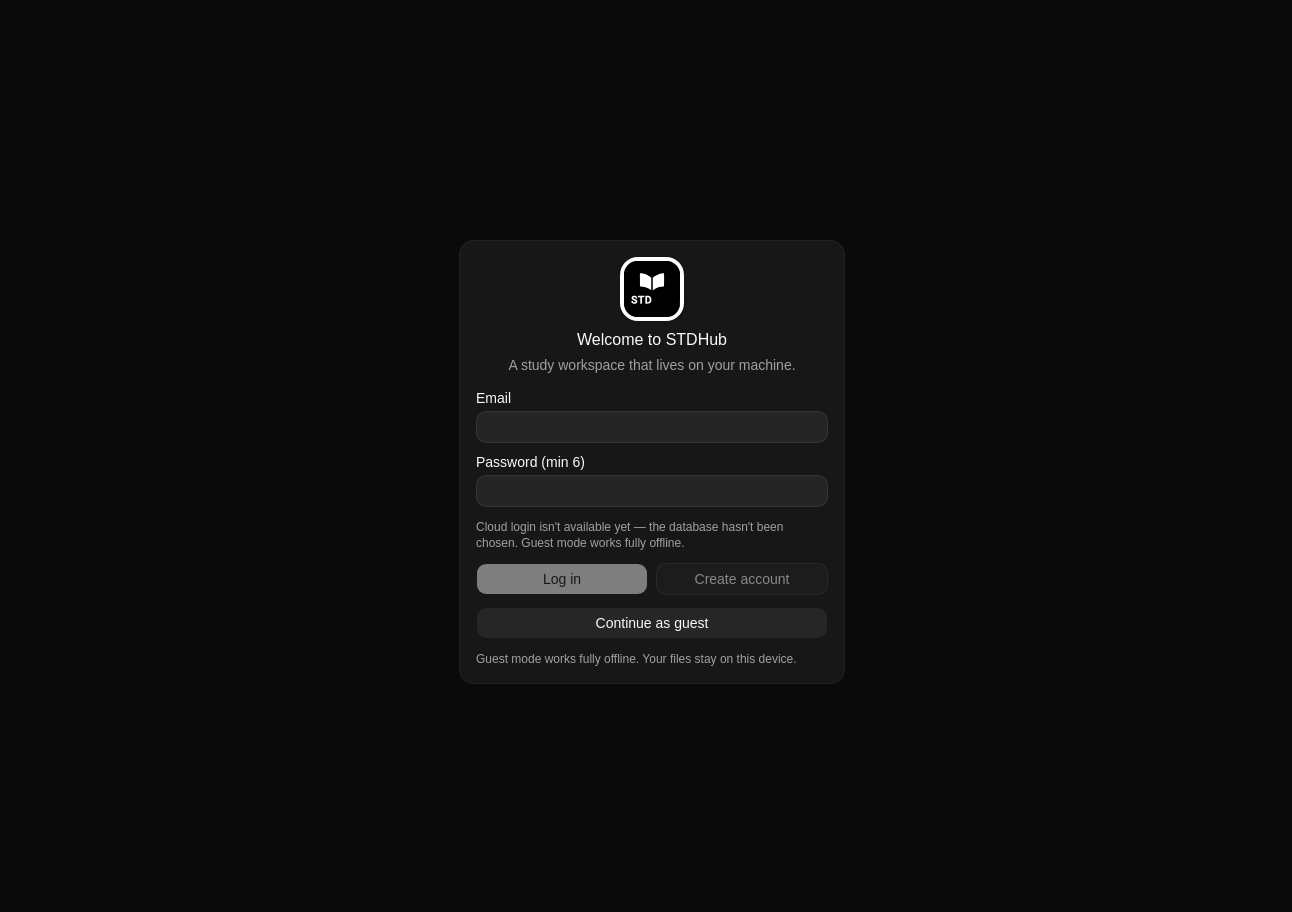
Test: T04 login › guest enters the shell offline and persists
The width and height of the screenshot is (1292, 912).
Click the button "Continue as guest": click(652, 623) left=476, top=607, right=828, bottom=639
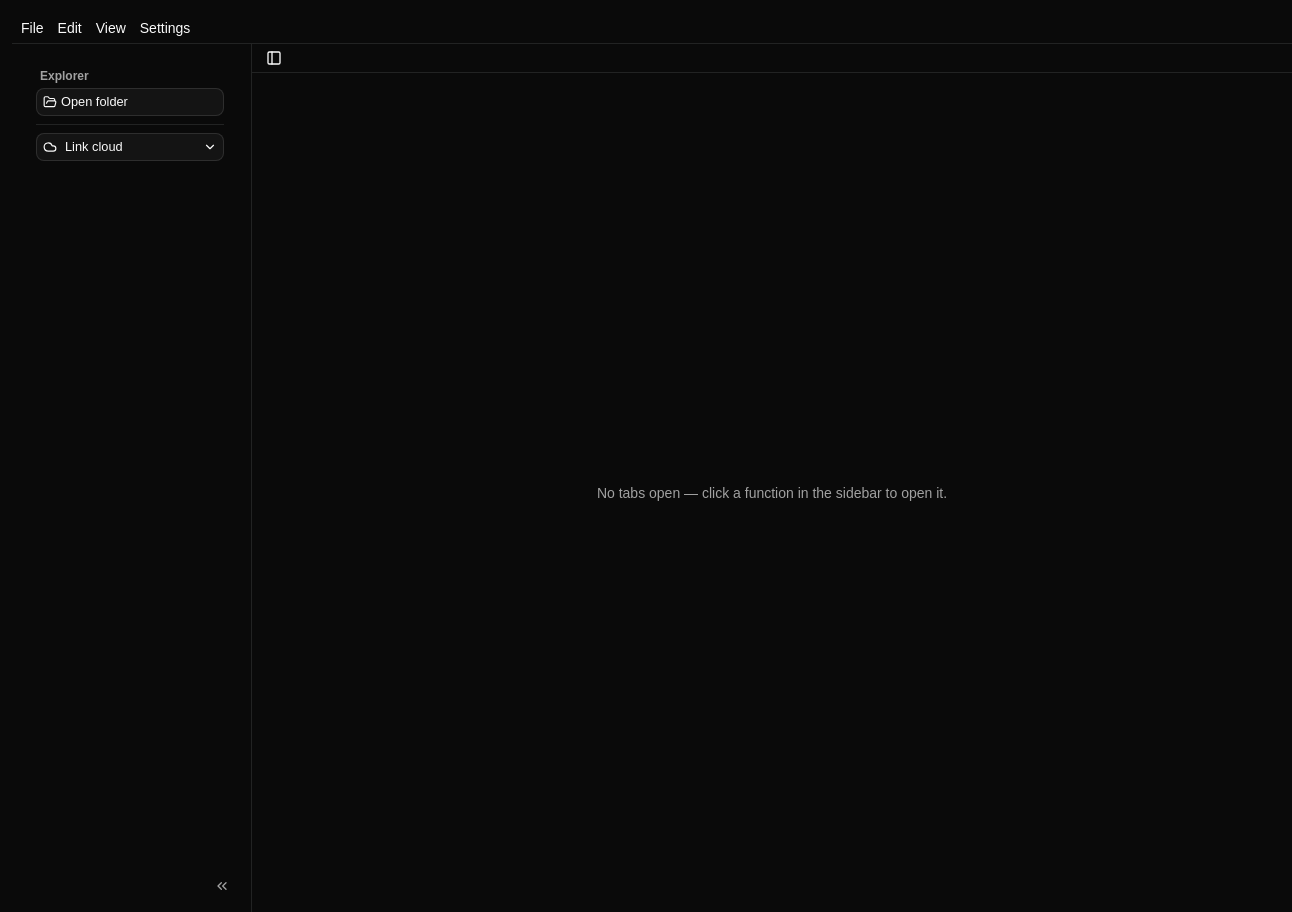
Result: the text "Explorer" is shown at left=40, top=69, right=89, bottom=83
